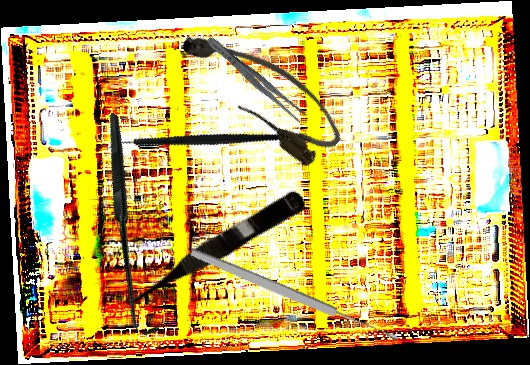Cannula: (170, 6, 354, 174)
Chopper: (105, 82, 286, 206)
Dressing Forceps: (203, 33, 309, 125)
Hook Surgical: (19, 112, 245, 340)
Micro Scissor: (112, 183, 310, 318)
Surgical Spoon: (187, 245, 402, 346)
